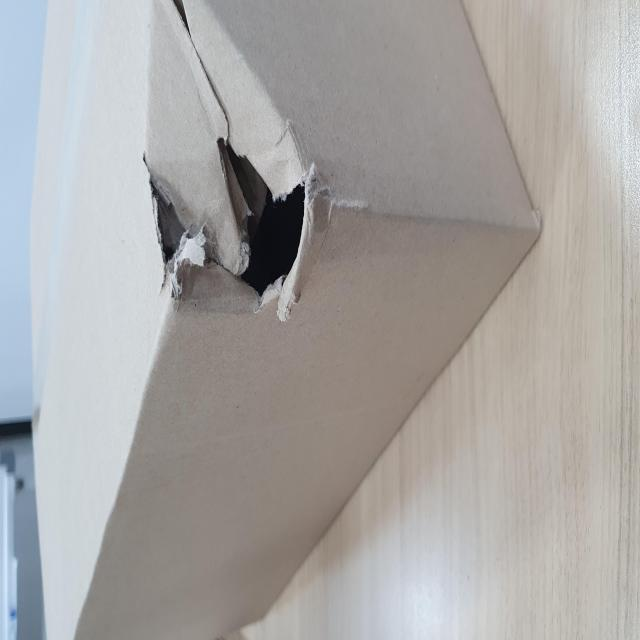damaged: (170, 253, 360, 564)
